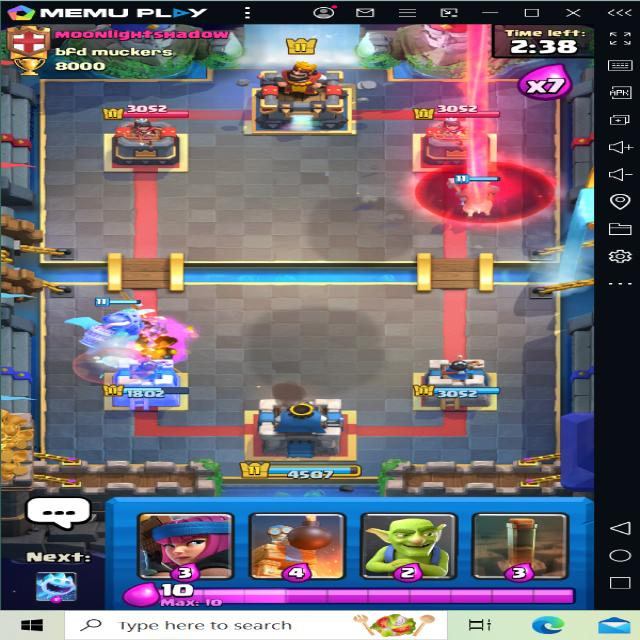void: (417, 161, 550, 219)
